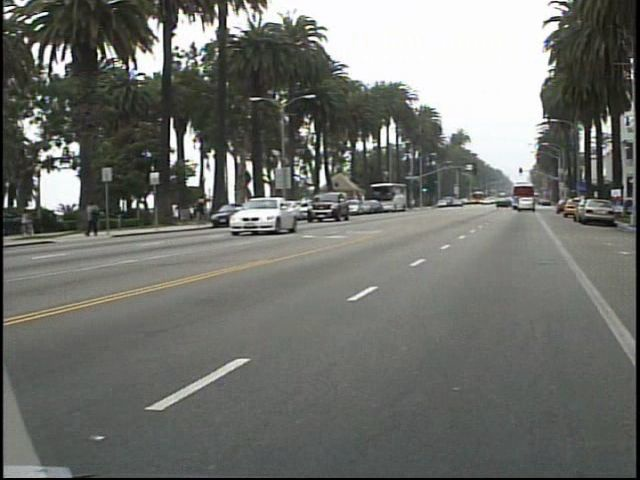person: (90, 194, 111, 238), (199, 190, 218, 225)
